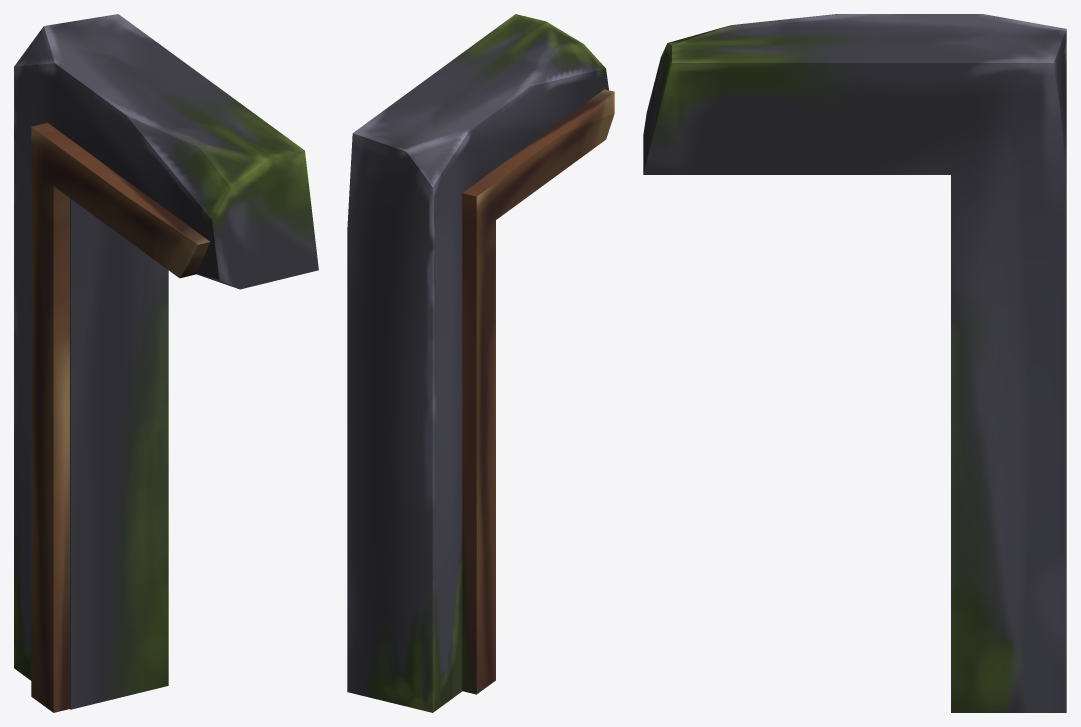
File: Corner.fbx
3 renders of one model, left to right at view 1: azimuth 30°, elevation 25°; view 2: azimuth 150°, elevation 25°; view 3: azimuth 270°, elevation 25°, orthographic. The views are drawn at different scales.
Visible parts, largest first — view 1: Pillar3; view 2: Pillar3; view 3: Pillar3.
Part boxes in pixels (x1,y1,x2,y2): Pillar3: [14, 14, 318, 712]; Pillar3: [347, 14, 614, 712]; Pillar3: [643, 14, 1066, 712].
Size of the model in its own units: 26.99 by 143 by 84.48.
